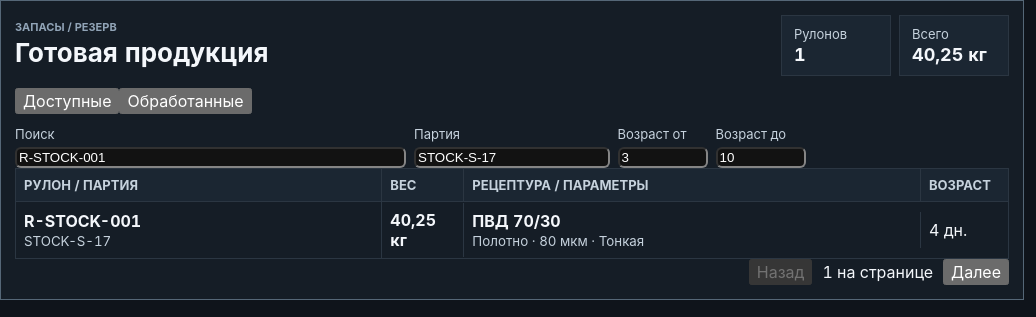
Test: WarehouseFinishedStockPanel › clears available rows and ignores their late response after switching to processed
Replace the text in the field labelled "Поиск" with "pending-available": (210, 158) [15,147,406,168]
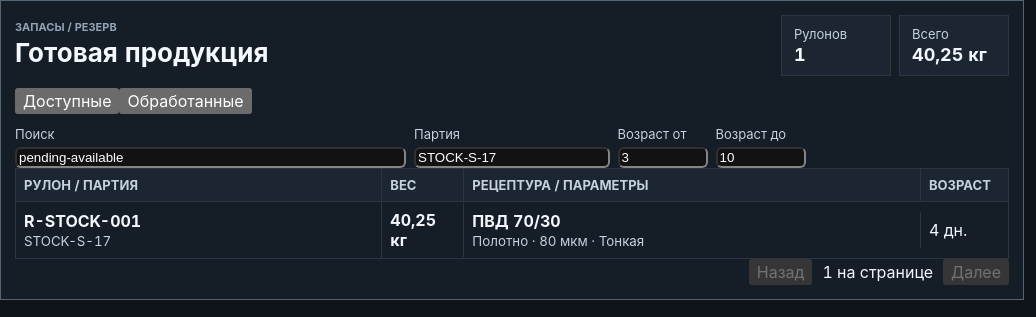
Click the tab "Обработанные": (186, 101) [120,88,252,114]
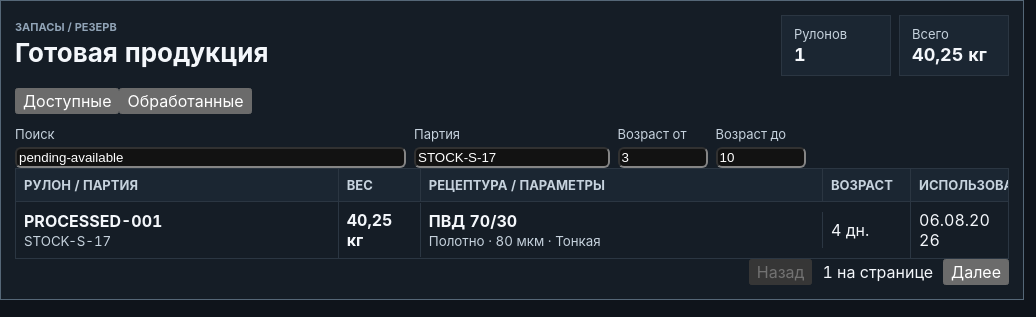
Now the text "PROCESSED-001" is shown, box [24,211,162,231]
